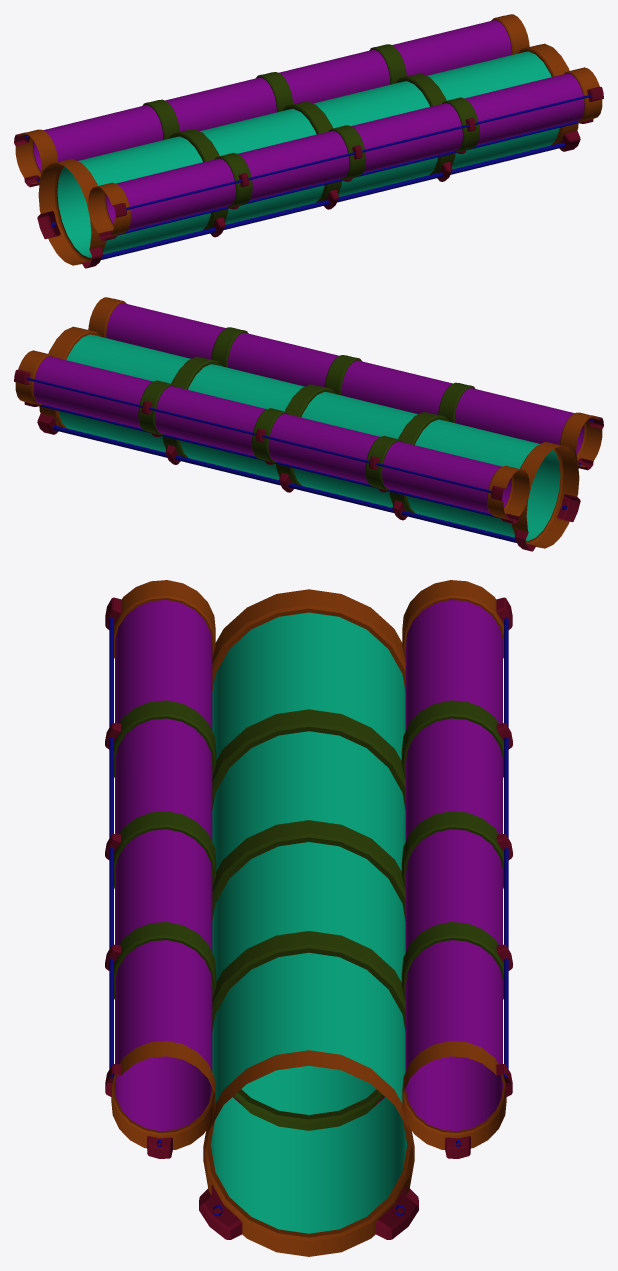
File: OBJ_Tuyau.fbx
The picture shows the model from 3 angles, top to bottom: view 1: azimuth 30°, elevation 25°; view 2: azimuth 150°, elevation 25°; view 3: azimuth 270°, elevation 25°; orthographic projection. The views are drawn at different scales.
Visible parts, largest first — view 1: Object036; view 2: Object036; view 3: Object036.
Boxes of the visible parts, <box> form: Object036: <box>14,14,603,268</box>; Object036: <box>14,297,603,551</box>; Object036: <box>105,580,512,1256</box>.
Bounding box in the file's own units: 31 × 6.12 × 11.22.
